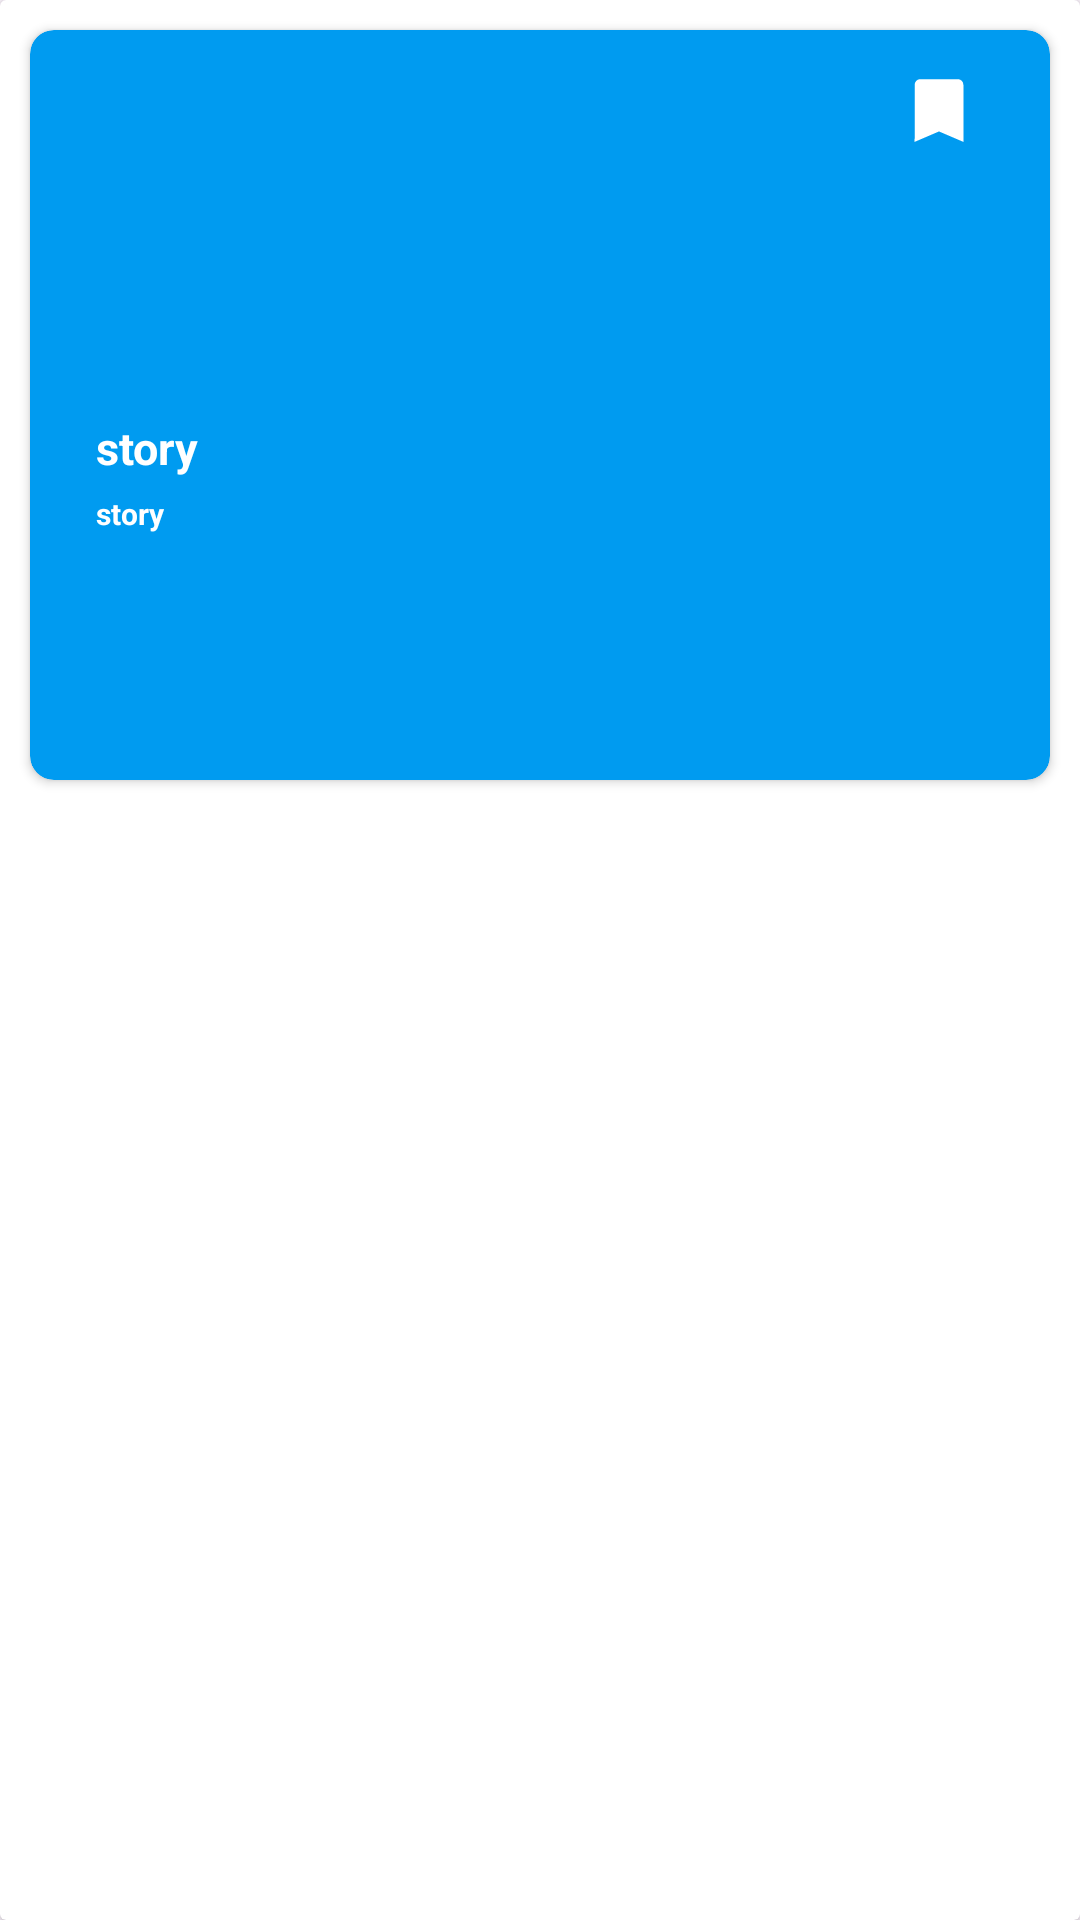

Point at icon controls on the screen. Image size 1080 × 1920, points as (x=x, y=y).
bookmarkosong: (x=939, y=110)
